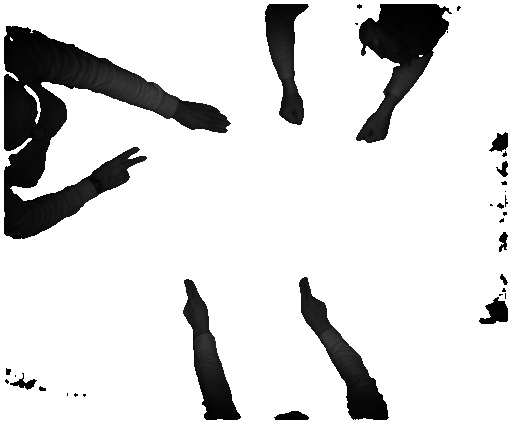fist: (352, 111, 392, 143), (277, 96, 303, 127)
hand: (97, 144, 151, 196), (176, 272, 214, 332), (296, 272, 331, 328), (181, 102, 231, 135)
